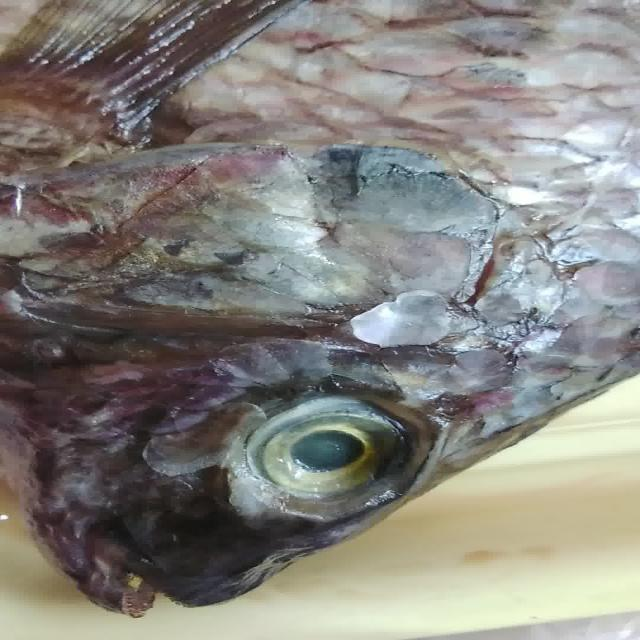Non-Fresh: (24, 11, 632, 385), (241, 392, 433, 510)
